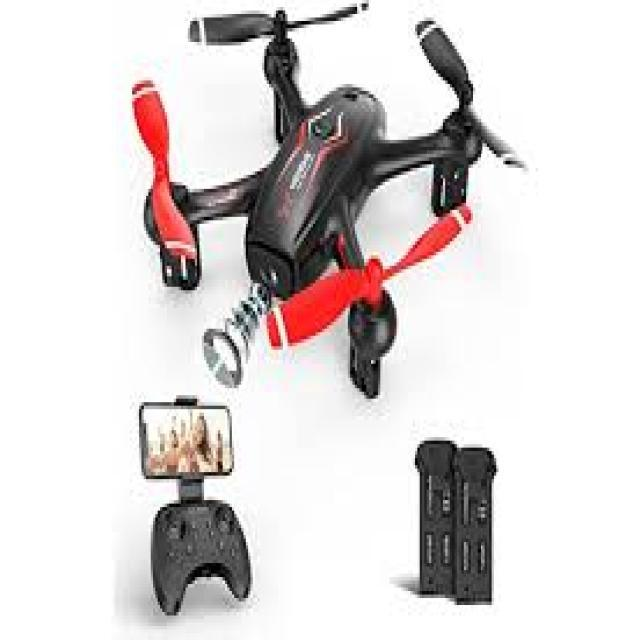drone: (100, 0, 534, 426)
